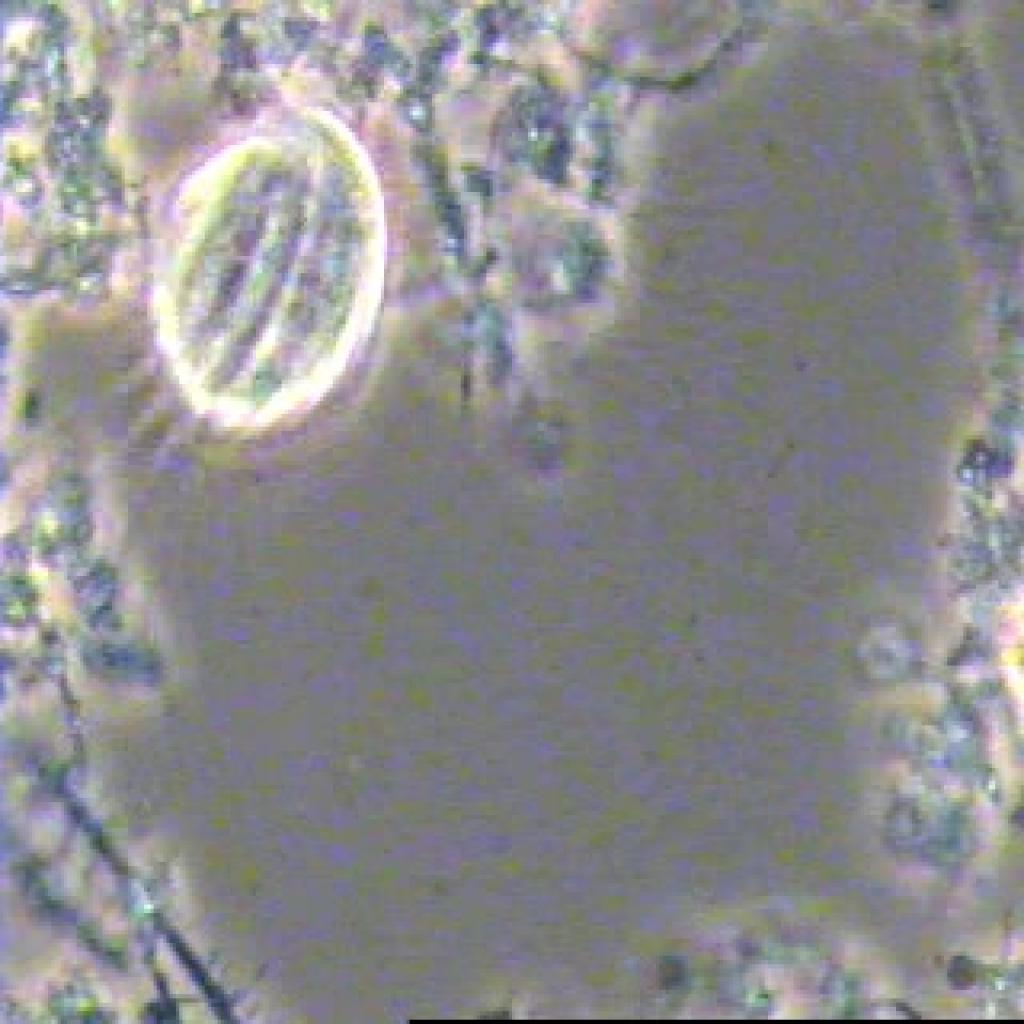Aspidisca: (98, 96, 402, 531)
